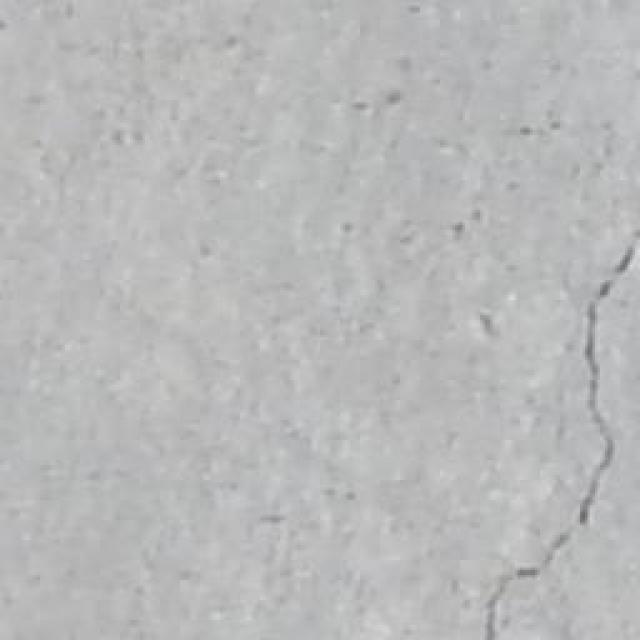concrete-crack: (476, 228, 638, 640)
